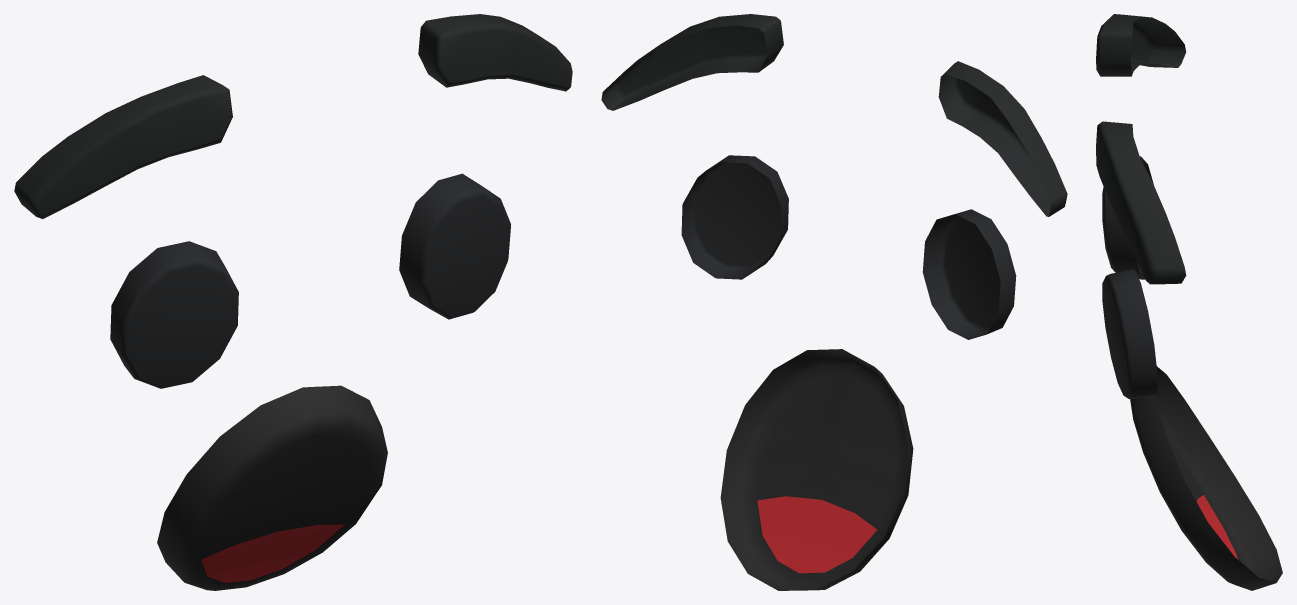
The model's file is Female_Emotion_Surpriced_01.glb.
3 views of the same model, side by side, from view 1: azimuth 30°, elevation 25°; view 2: azimuth 150°, elevation 25°; view 3: azimuth 270°, elevation 25° (orthographic). The views are drawn at different scales.
Visible parts, largest first — view 1: Female_Emotion_Surpriced_01; view 2: Female_Emotion_Surpriced_01; view 3: Female_Emotion_Surpriced_01.
Boxes of the visible parts, box(x1,y1,x2,y2) form: Female_Emotion_Surpriced_01: box(14, 14, 572, 590); Female_Emotion_Surpriced_01: box(601, 14, 1067, 590); Female_Emotion_Surpriced_01: box(1096, 14, 1282, 590).
Bounding box in the file's own units: 0.2441 × 0.2559 × 0.0857.
1 material, 1 textured.
